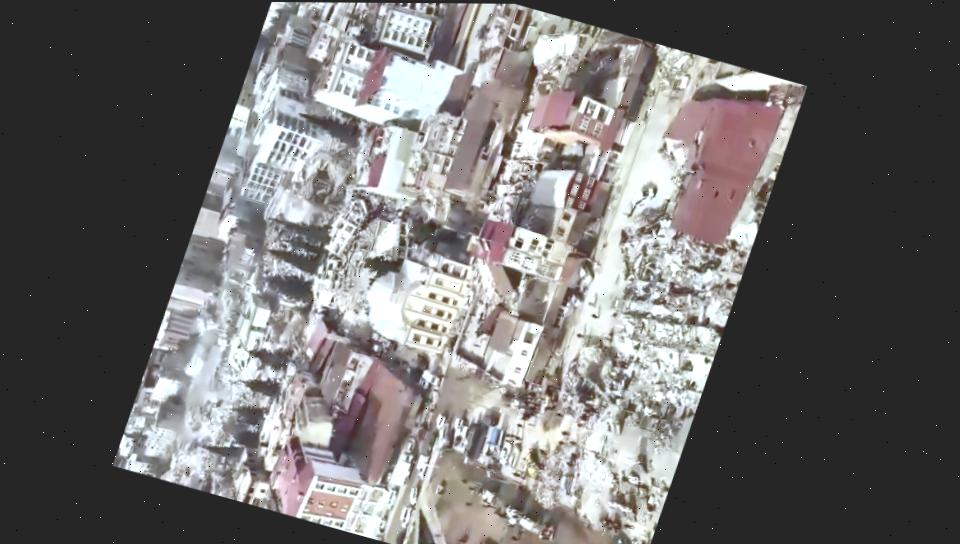kapali: (541, 306, 626, 431), (652, 48, 710, 118)
